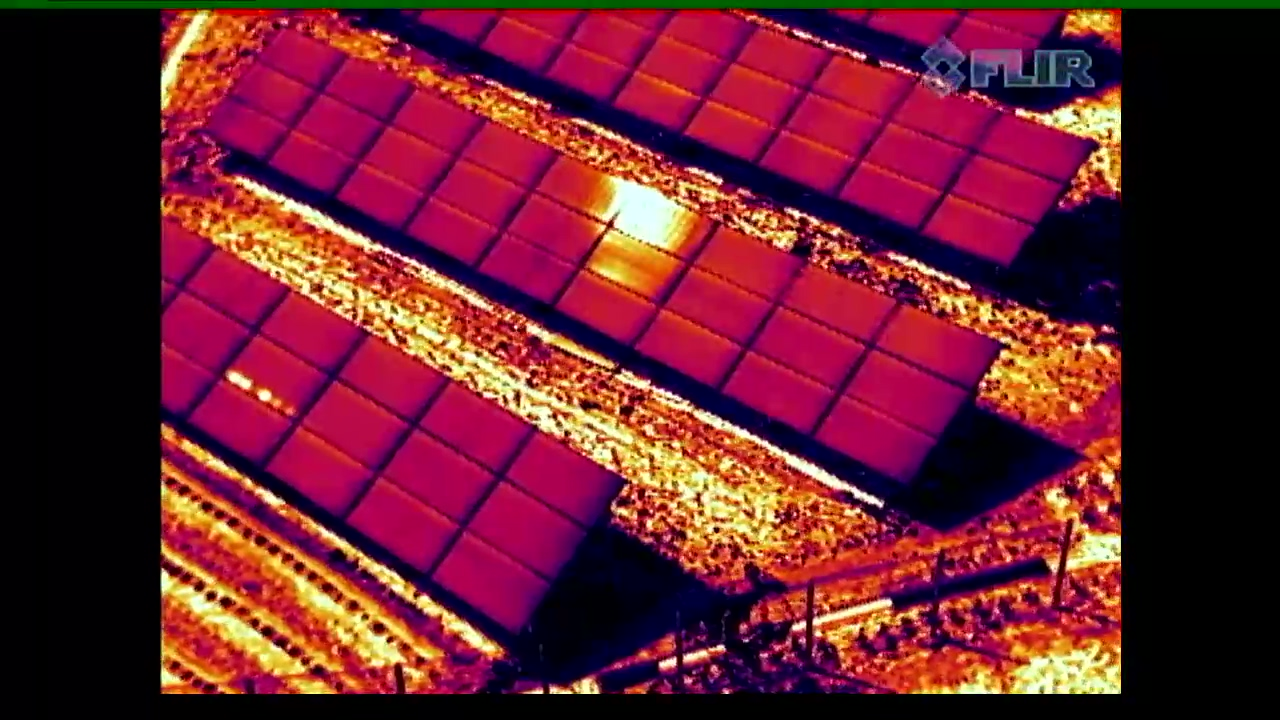hotspot: (183, 297, 366, 461)
